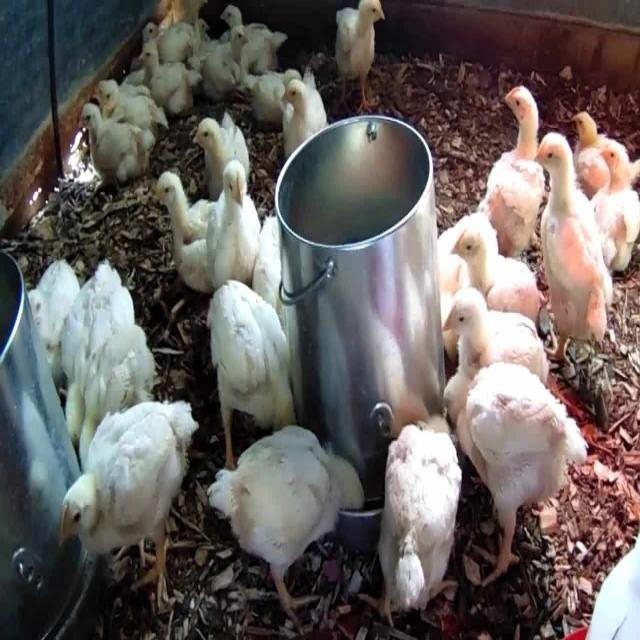poussin: (426, 376, 593, 579), (54, 398, 202, 591), (215, 435, 365, 605), (182, 275, 310, 446), (536, 134, 620, 348), (381, 410, 462, 628), (65, 272, 147, 442), (440, 286, 548, 386), (446, 220, 544, 326), (492, 79, 540, 253), (152, 170, 216, 296), (205, 160, 265, 292), (586, 145, 640, 288), (326, 2, 398, 106), (559, 104, 640, 185), (76, 105, 154, 184), (27, 258, 80, 372), (215, 0, 290, 69), (275, 70, 329, 158), (192, 25, 256, 93), (98, 70, 166, 130), (192, 116, 252, 182), (137, 34, 195, 102), (140, 15, 209, 60), (250, 68, 298, 126)
